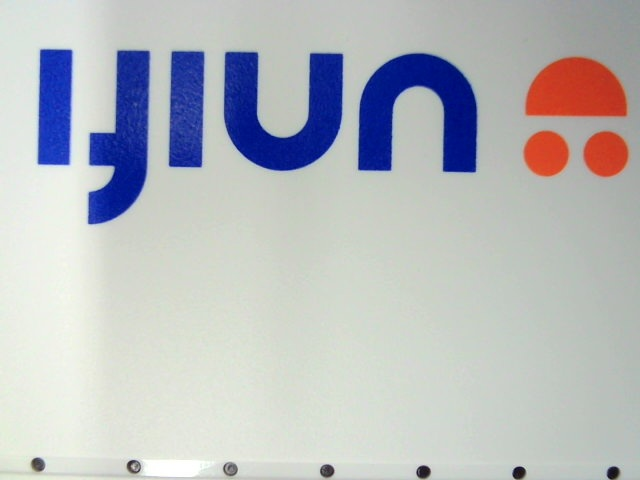BN_unifi: (17, 34, 632, 237)
